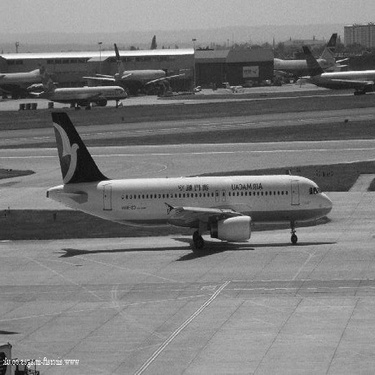airplane: (28, 105, 343, 254), (63, 36, 194, 109), (278, 31, 372, 105), (250, 23, 355, 86), (17, 69, 132, 120)
